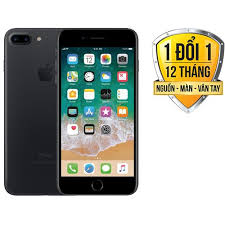iphone: (55, 25, 139, 198)
iphone7: (56, 25, 140, 198)
